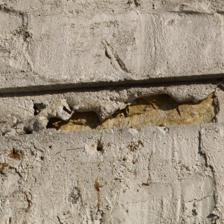Crack: (46, 89, 222, 140), (197, 130, 223, 222)
